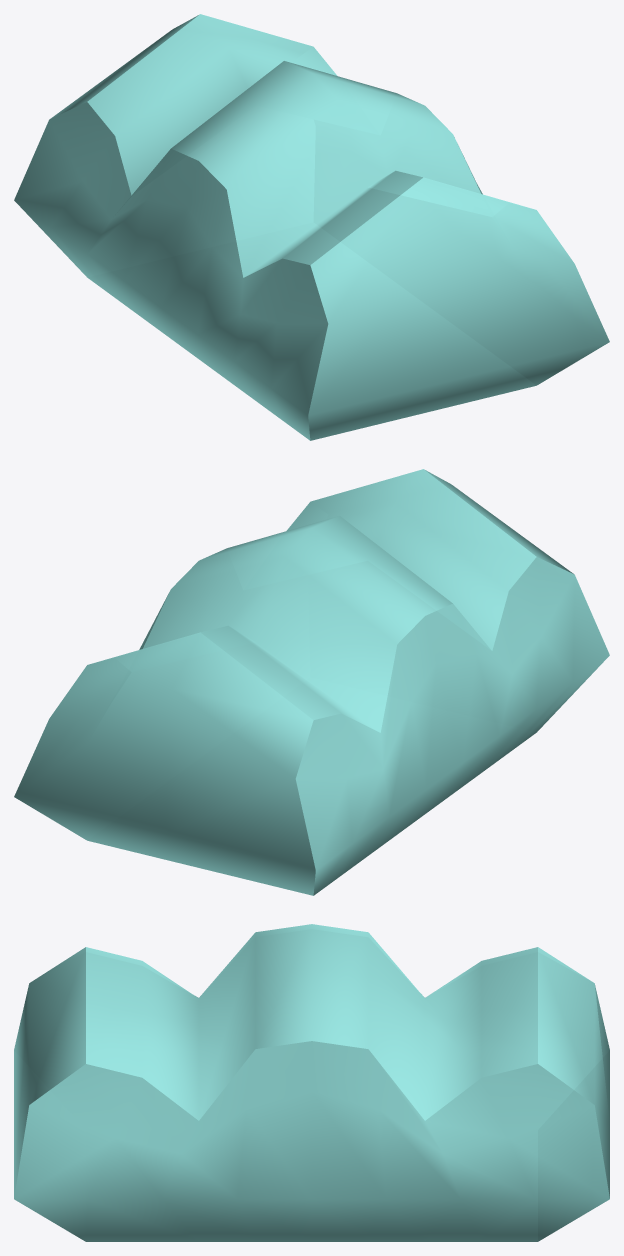
Rendered from Nubecita.fbx.
3 renders of one model, top to bottom at view 1: azimuth 30°, elevation 25°; view 2: azimuth 150°, elevation 25°; view 3: azimuth 270°, elevation 25°, orthographic.
Parts seen in each view (by area): view 1: pCube1; view 2: pCube1; view 3: pCube1.
Boxes of the visible parts, x1=… form: pCube1: x1=14, y1=14, x2=609, y2=440; pCube1: x1=14, y1=469, x2=609, y2=895; pCube1: x1=14, y1=924, x2=609, y2=1241.
Bounding box in the file's own units: 2.61 × 2.14 × 4.41.
